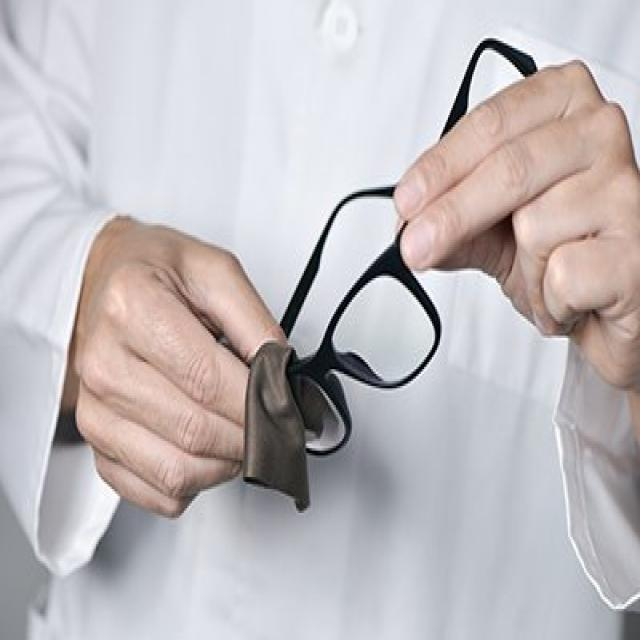glasses: (258, 6, 583, 489)
